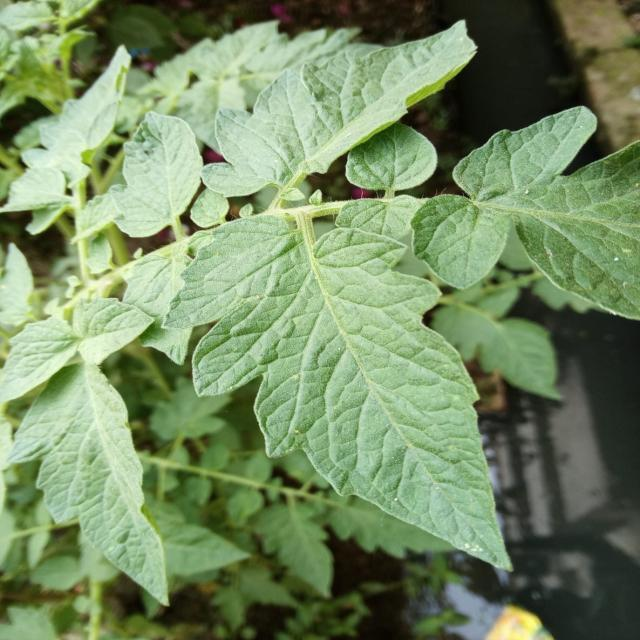Healthy: (127, 165, 612, 570), (178, 0, 491, 227), (0, 350, 237, 628), (412, 108, 639, 318), (100, 105, 216, 251)
